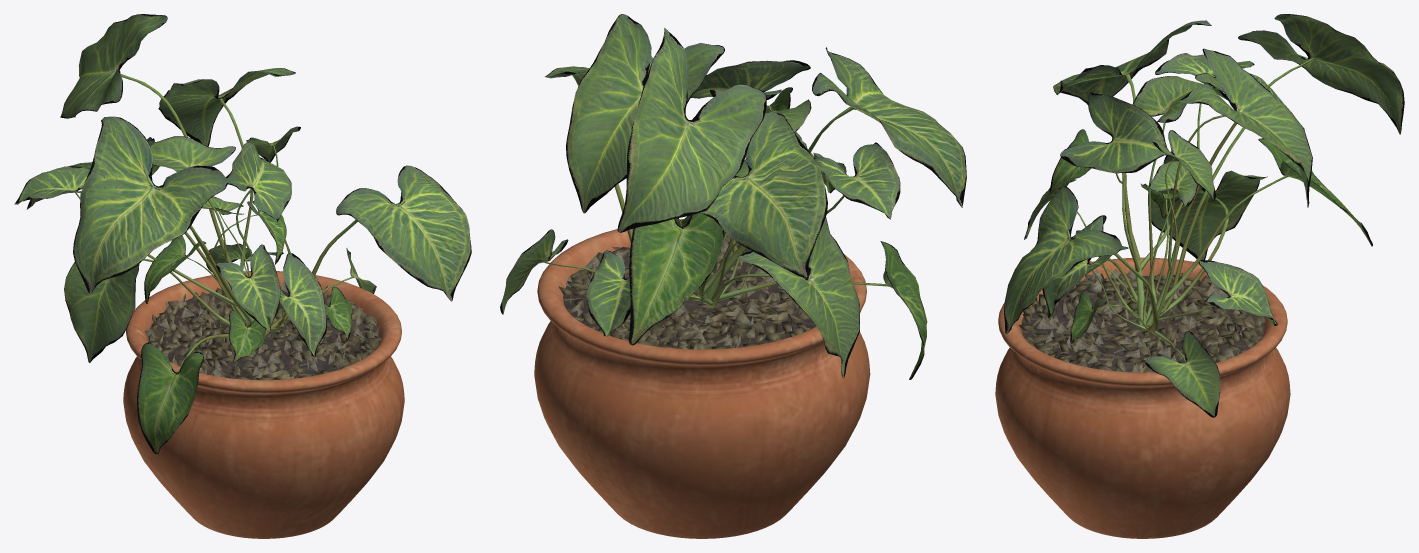
File: plant_wide.glb
3 renders of one model, left to right at view 1: azimuth 30°, elevation 25°; view 2: azimuth 150°, elevation 25°; view 3: azimuth 270°, elevation 25°, orthographic. The views are drawn at different scales.
Parts seen in each view (by area): view 1: potted_plant_02_leaves, potted_plant_02_pot, potted_plant_02_dirt; view 2: potted_plant_02_leaves, potted_plant_02_pot, potted_plant_02_dirt; view 3: potted_plant_02_leaves, potted_plant_02_pot, potted_plant_02_dirt.
Boxes of the visible parts, x1,y1,x2,y2 form: potted_plant_02_leaves: (14,14,471,454); potted_plant_02_pot: (123,271,404,538); potted_plant_02_dirt: (144,282,381,380); potted_plant_02_leaves: (500,14,966,379); potted_plant_02_pot: (534,219,870,538); potted_plant_02_dirt: (558,235,816,349); potted_plant_02_leaves: (1004,14,1404,417); potted_plant_02_pot: (995,257,1290,538); potted_plant_02_dirt: (1019,269,1265,372).
Bounding box in the file's own units: 0.7009 × 0.8412 × 0.6574.
Materials: 2 (2 with a texture image).
